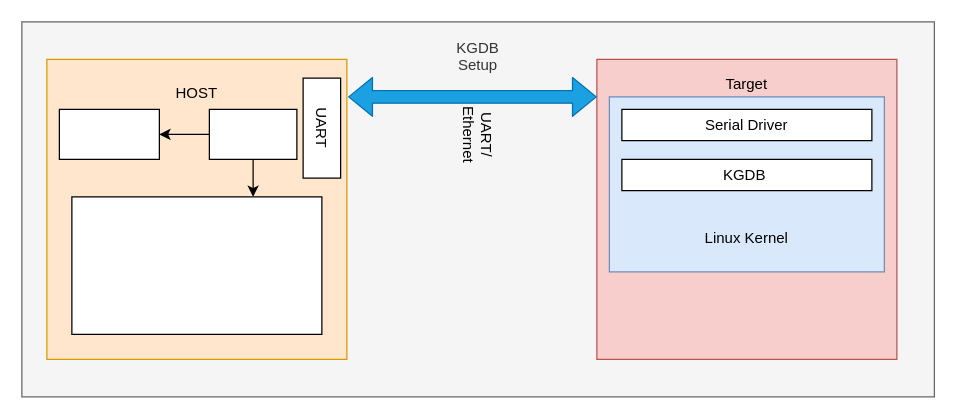
Some shapes in this 956 by 419 pixel diagram are drawn without their labels. Each missing label, with the centre of its shape:
"aarch64-linux-gnu-gdb ./vmlinux gdb> target remote localhost:5555" goes at pixel 196 265.
"Agent Proxy" goes at pixel 252 133.
"Target Board Console logs" goes at pixel 108 133.
